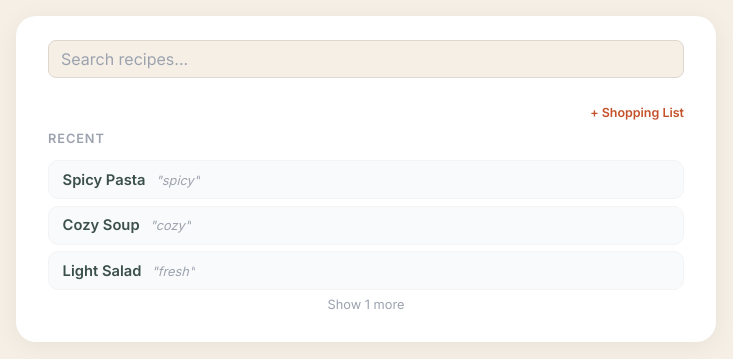
Scenario: RecipeHistory — search › filters by recipe title
This screenshot has width=733, height=359.
Type "pasta" into the field with placeholder "Search recipes...". click: (366,59)
box: [48,40,684,78]
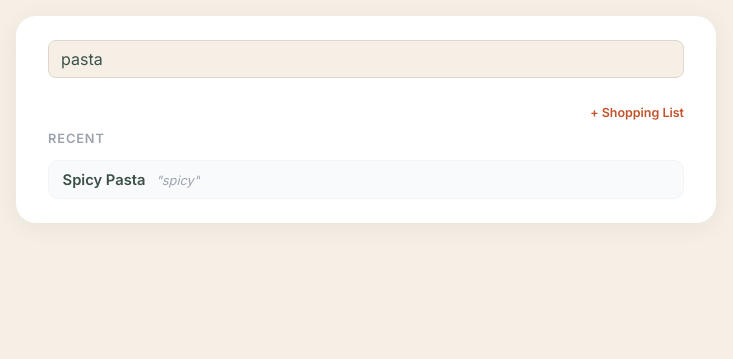
Expected: the text "Spicy Pasta" is shown, [63,171,146,189]
Now the button "Cozy Soup" is gone
